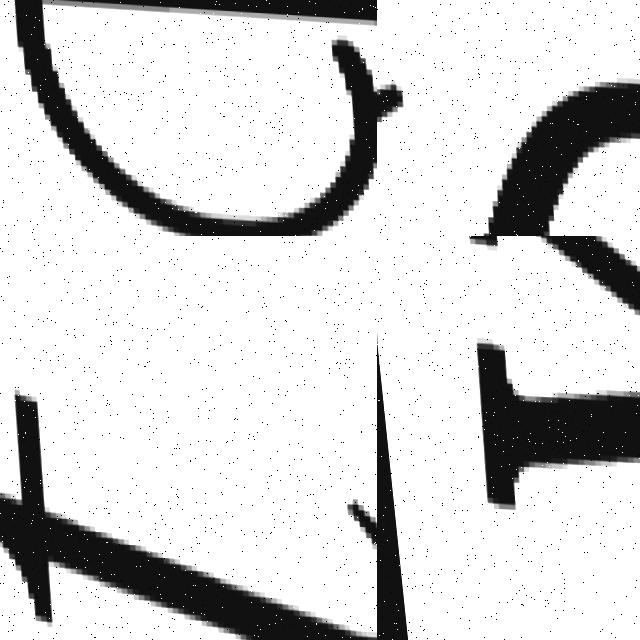9: (0, 0, 377, 236)
S: (377, 36, 640, 236)
T: (0, 378, 377, 640)
Y: (417, 236, 640, 640)
